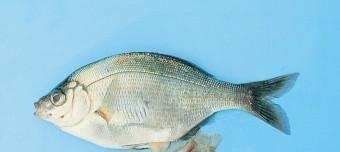fish: (31, 52, 300, 151)
